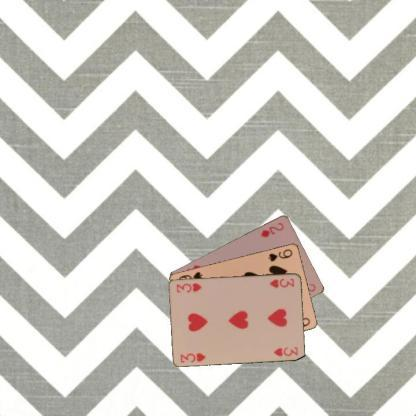2d: (258, 220, 285, 238)
3h: (178, 350, 207, 364), (268, 275, 296, 289)
9s: (266, 246, 294, 262)
